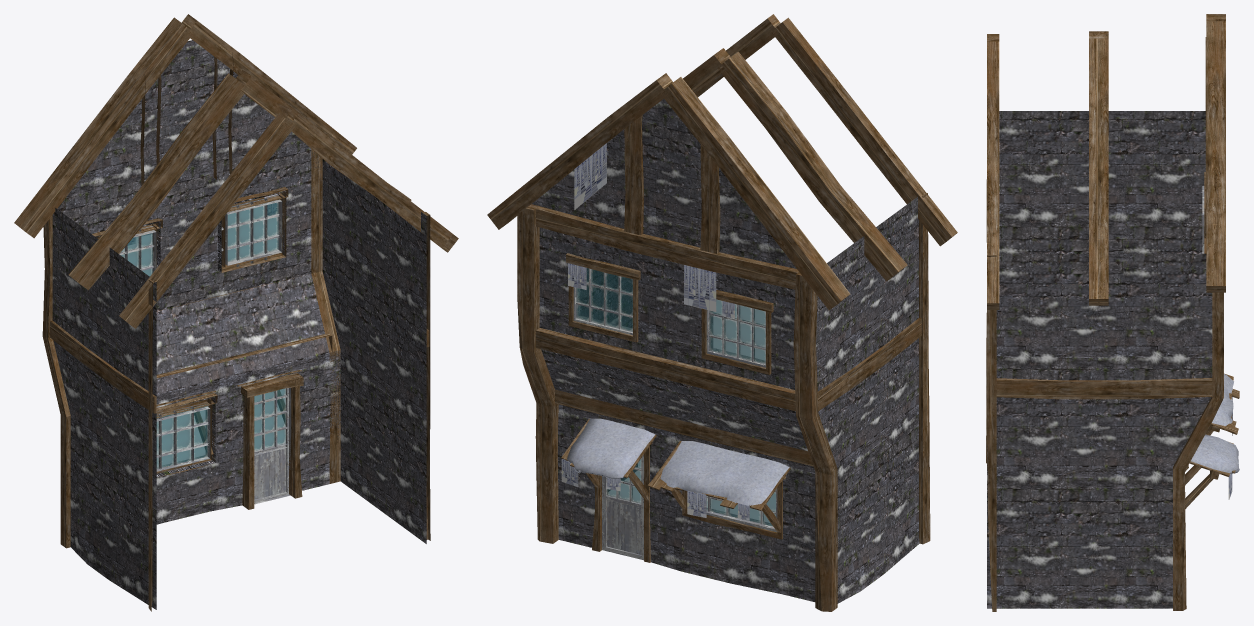
Rendered from build_2.fbx.
3 renders of one model, left to right at view 1: azimuth 30°, elevation 25°; view 2: azimuth 150°, elevation 25°; view 3: azimuth 270°, elevation 25°, orthographic. The views are drawn at different scales.
Visible parts, largest first — view 1: build_2; view 2: build_2; view 3: build_2.
Part boxes in pixels (<box>): build_2: <box>14,14,458,611</box>; build_2: <box>487,14,957,611</box>; build_2: <box>986,14,1239,611</box>.
Bounding box in the file's own units: 532 × 732 × 324.
Materials: 6 (6 with a texture image).
